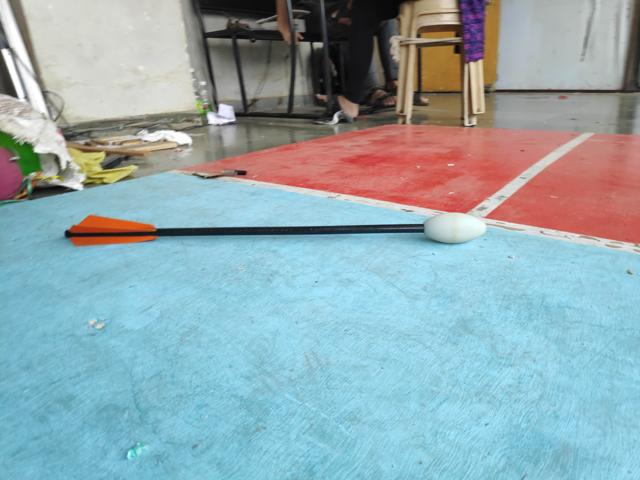Head: (422, 211, 493, 246)
Tail: (64, 209, 159, 250)
